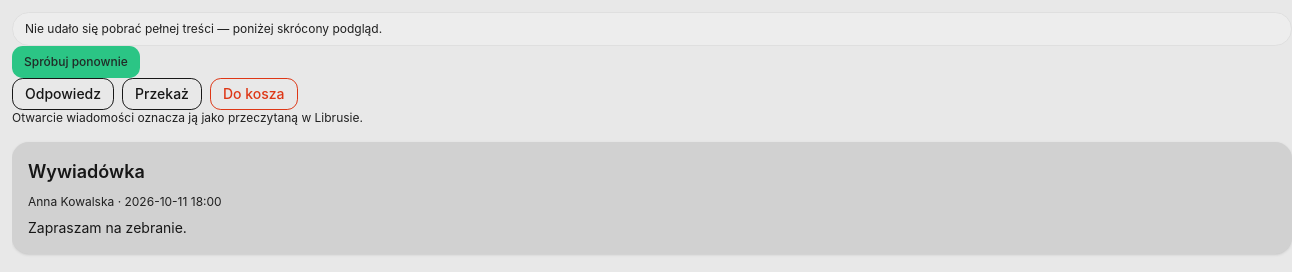
Scenario: MessageDetailScreen › falls back to the cached list content when the detail fails, saying so with a retry
Expected: the text "Zapraszam na zebranie." is shown, [28,219,187,236]
Expected: the text "skrócony podgląd" is shown, [25,21,382,36]
Step 1. Click the button "Spróbuj ponownie" → (76,62), box [12,46,140,78]
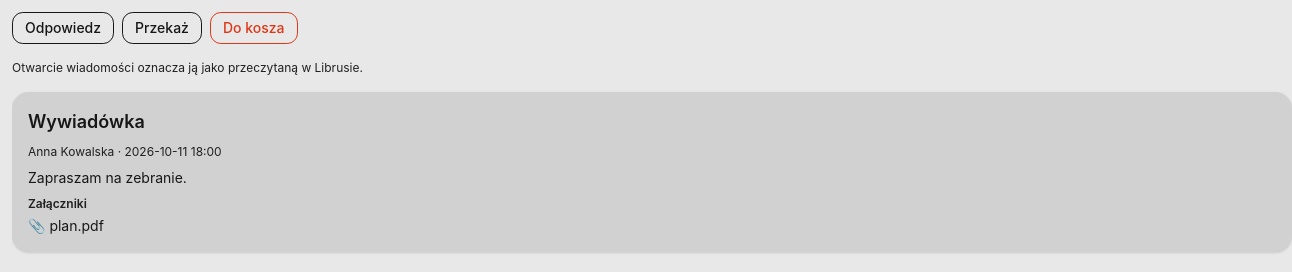
Now the text "skrócony podgląd" is gone
